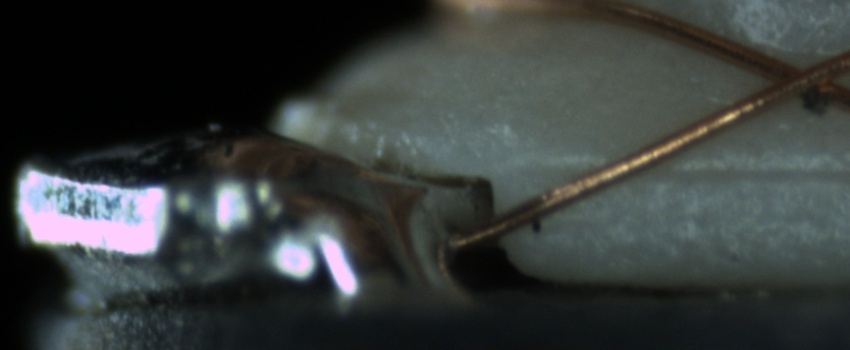CL: (745, 43, 842, 109)
DL: (544, 136, 845, 206)
